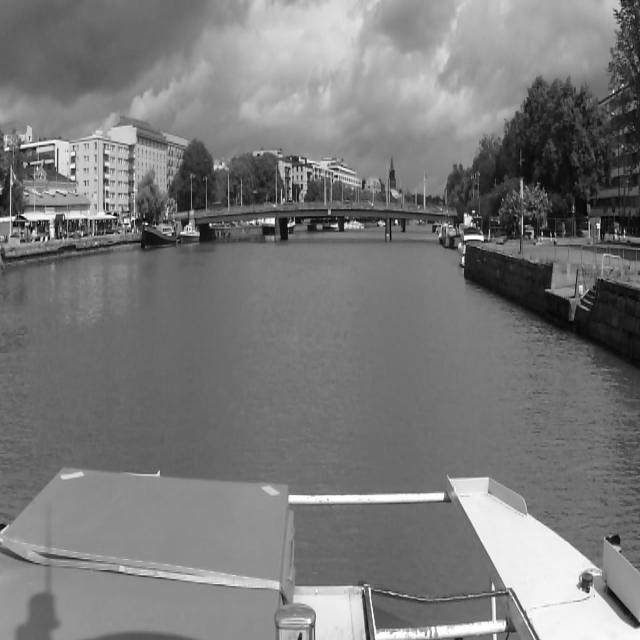ship: (142, 218, 176, 250), (179, 225, 200, 243)
